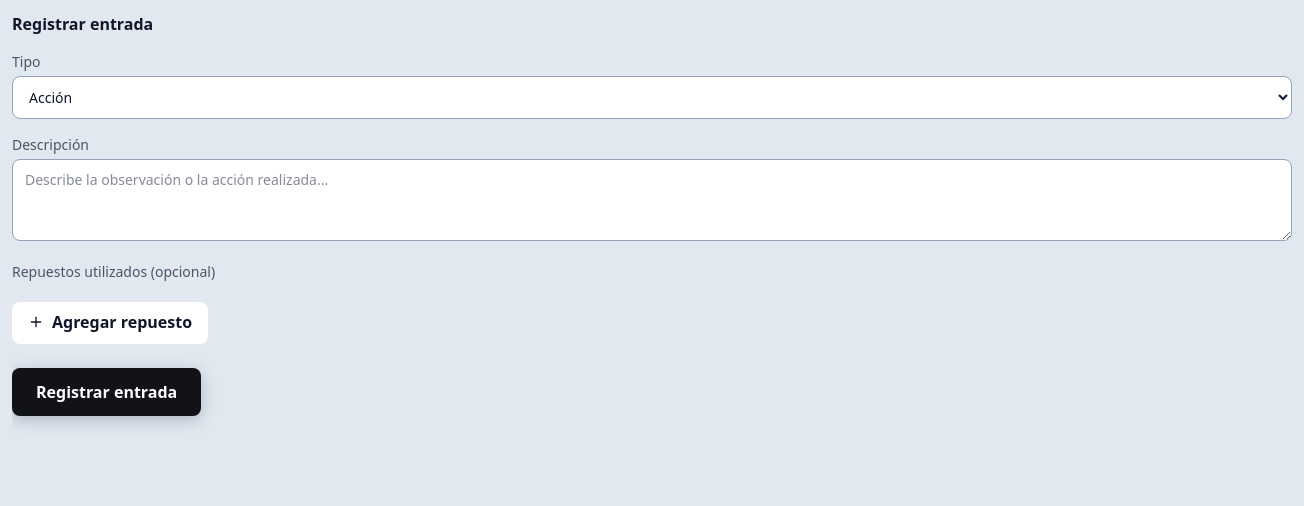
Test: BitacoraForm › muestra el error del servidor al fallar el registro
Type "Entrada inválida" into the text box named "Descripción de la entrada".
click(652, 200); type("Entrada inválida")  # box [12,159,1292,241]
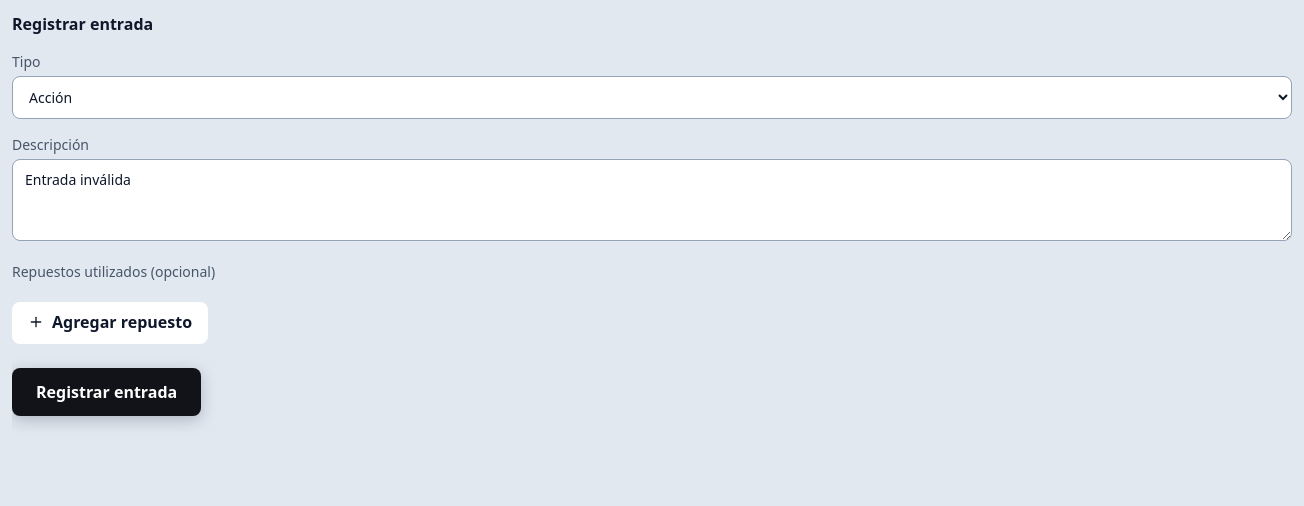
Click the button "Registrar entrada".
click(107, 392)  # box [12,368,201,416]
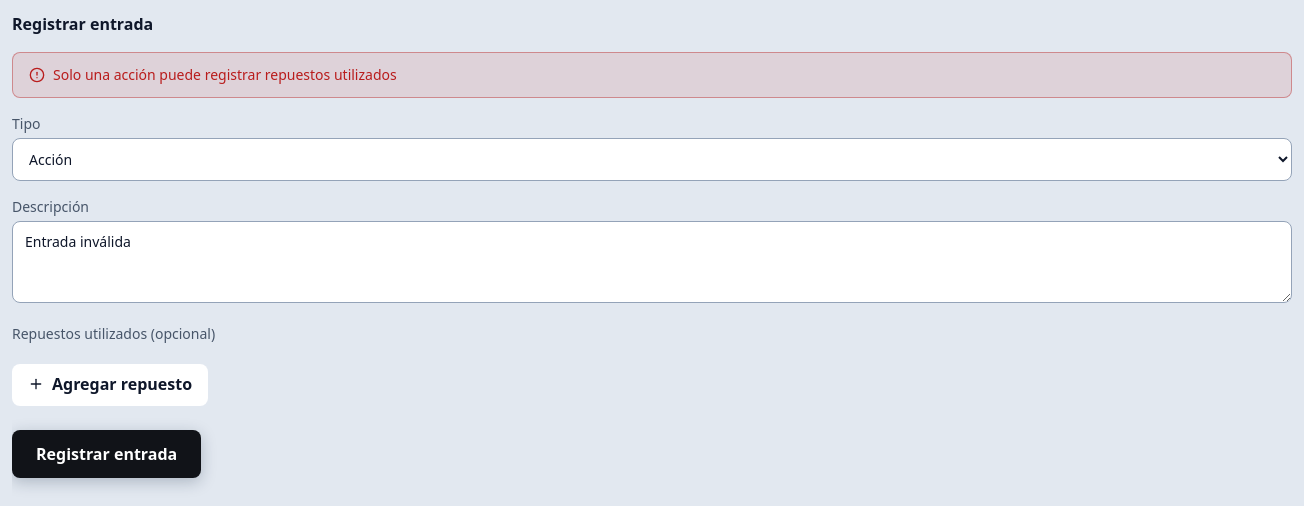
Expected: the text "Solo una acción puede registrar repuestos utilizados" is shown, [53,65,397,85]
